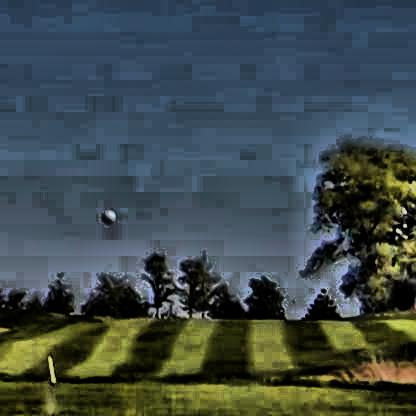golfball: (99, 206, 114, 223)
